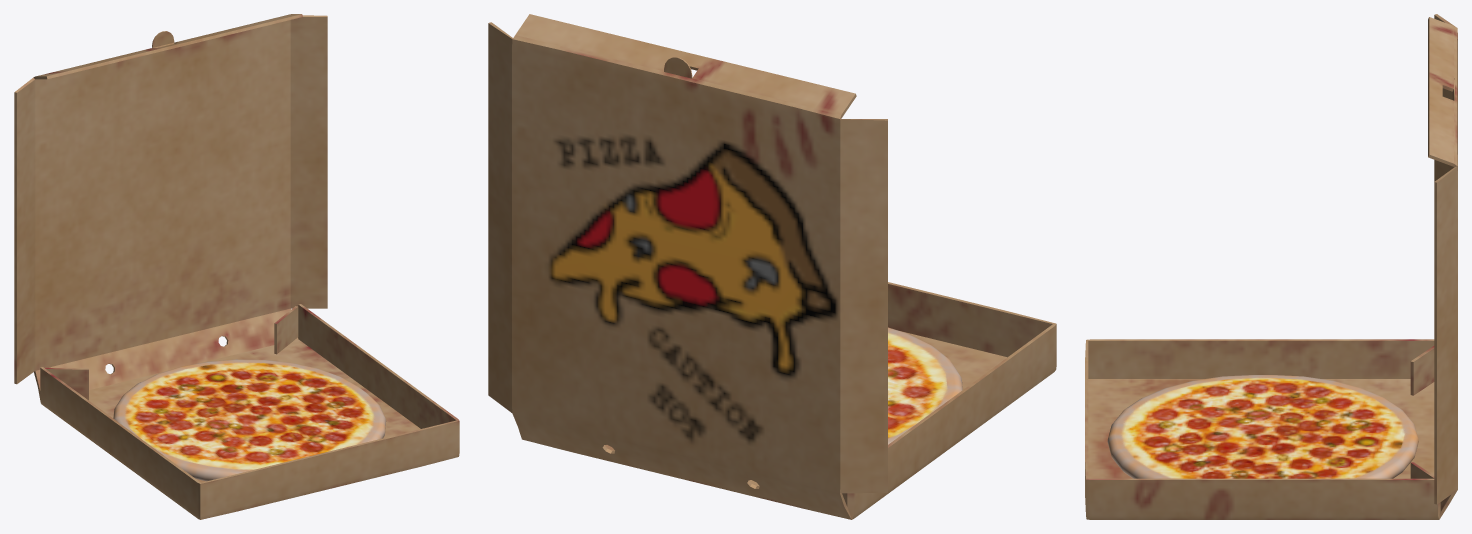
Rendered from pizza--and-pizza-box-free-0ffdb0.glb.
3 views of the same model, side by side, from view 1: azimuth 30°, elevation 25°; view 2: azimuth 150°, elevation 25°; view 3: azimuth 270°, elevation 25° (orthographic). The views are drawn at different scales.
Visible parts, largest first — view 1: PropMesh; view 2: PropMesh; view 3: PropMesh.
Part boxes in pixels (box(x1,y1,x2,y2)): PropMesh: box(14, 14, 459, 519); PropMesh: box(488, 14, 1056, 519); PropMesh: box(1085, 14, 1457, 519).
Bounding box in the file's own units: 0.45 × 0.4617 × 0.4204.
2 materials, 2 textured.
